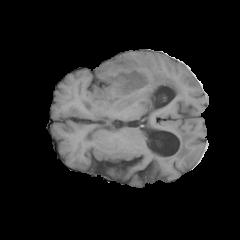glioma: (82, 57, 184, 120)
